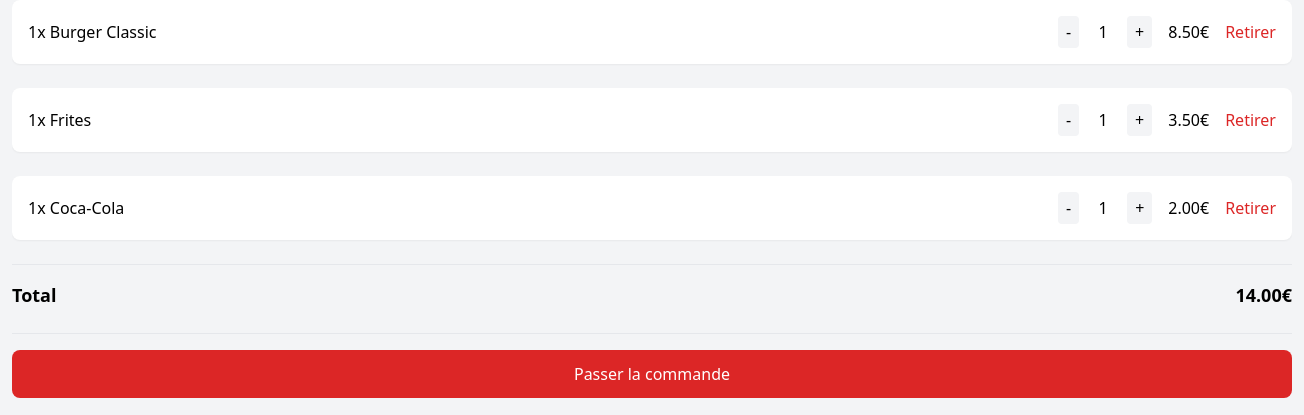
Integration Cart + Promotions › supprime la promotion quand on retire un article du menu
The image size is (1304, 415).
Note: Supprime les frites
What coordinates should you click on to do the following:
click the button "Retirer" next to "3.50"
I would click on:
 (1251, 120)
Its box is 1225,108 -> 1276,132.
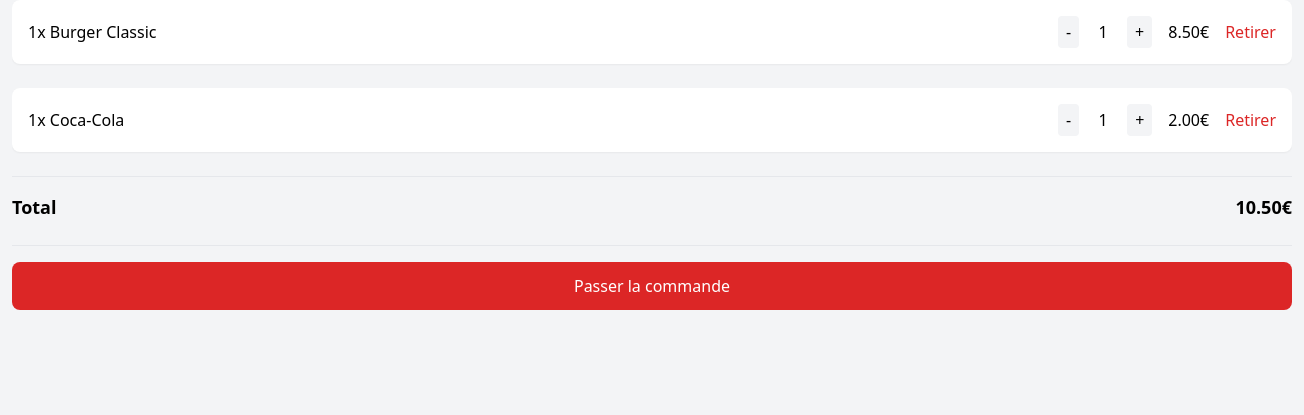
Expected: the text "10.50€" is shown, 1235,193 -> 1292,221
